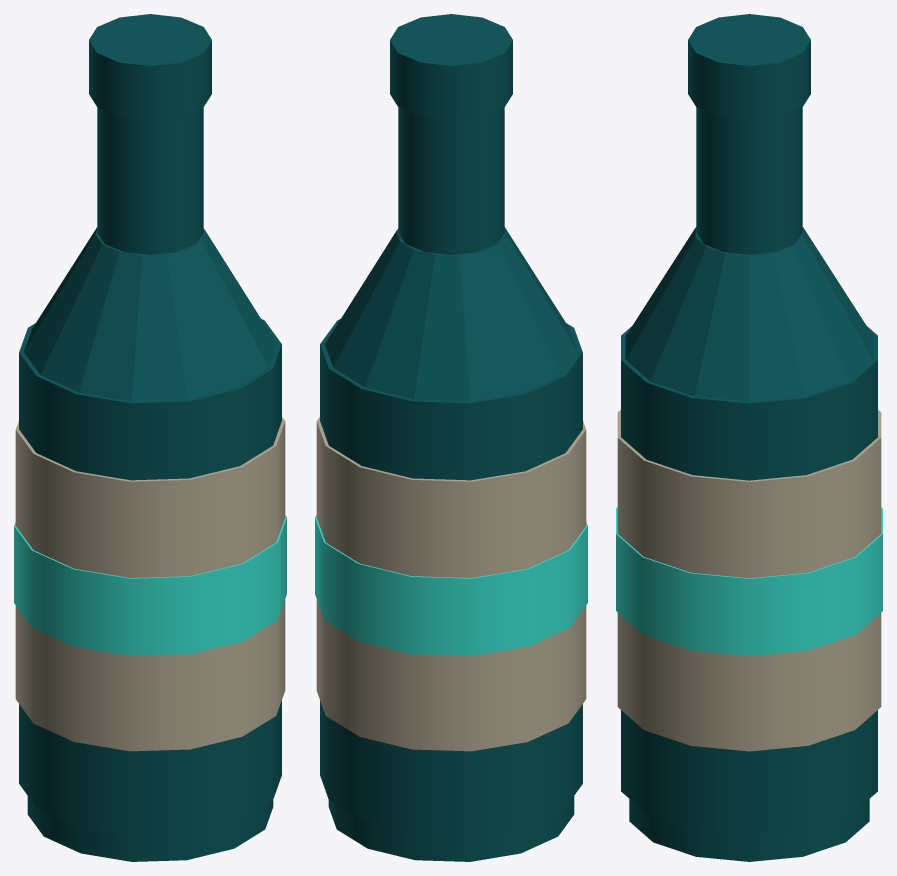
Rendered from drink_bottle_second_wind.gltf.
3 views of the same model, side by side, from view 1: azimuth 30°, elevation 25°; view 2: azimuth 150°, elevation 25°; view 3: azimuth 270°, elevation 25° (orthographic).
Visible parts, largest first — view 1: drink_bottle_second_wind; view 2: drink_bottle_second_wind; view 3: drink_bottle_second_wind.
Part boxes in pixels (box(x1,y1,x2,y2)): drink_bottle_second_wind: box(14, 14, 286, 861); drink_bottle_second_wind: box(315, 14, 587, 861); drink_bottle_second_wind: box(616, 14, 882, 861).
Bounding box in the file's own units: 0.0644 × 0.2 × 0.0628.
